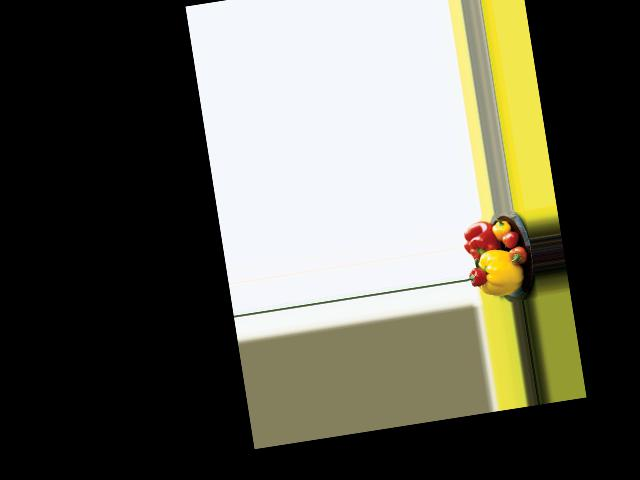bell_pepper: (490, 217, 511, 239)
